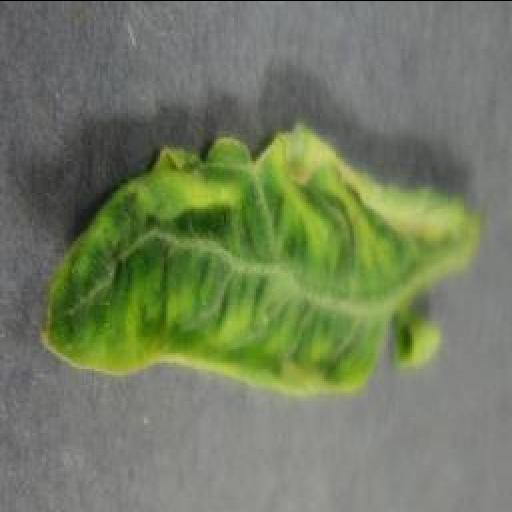disease_tomato: (38, 122, 482, 392)
